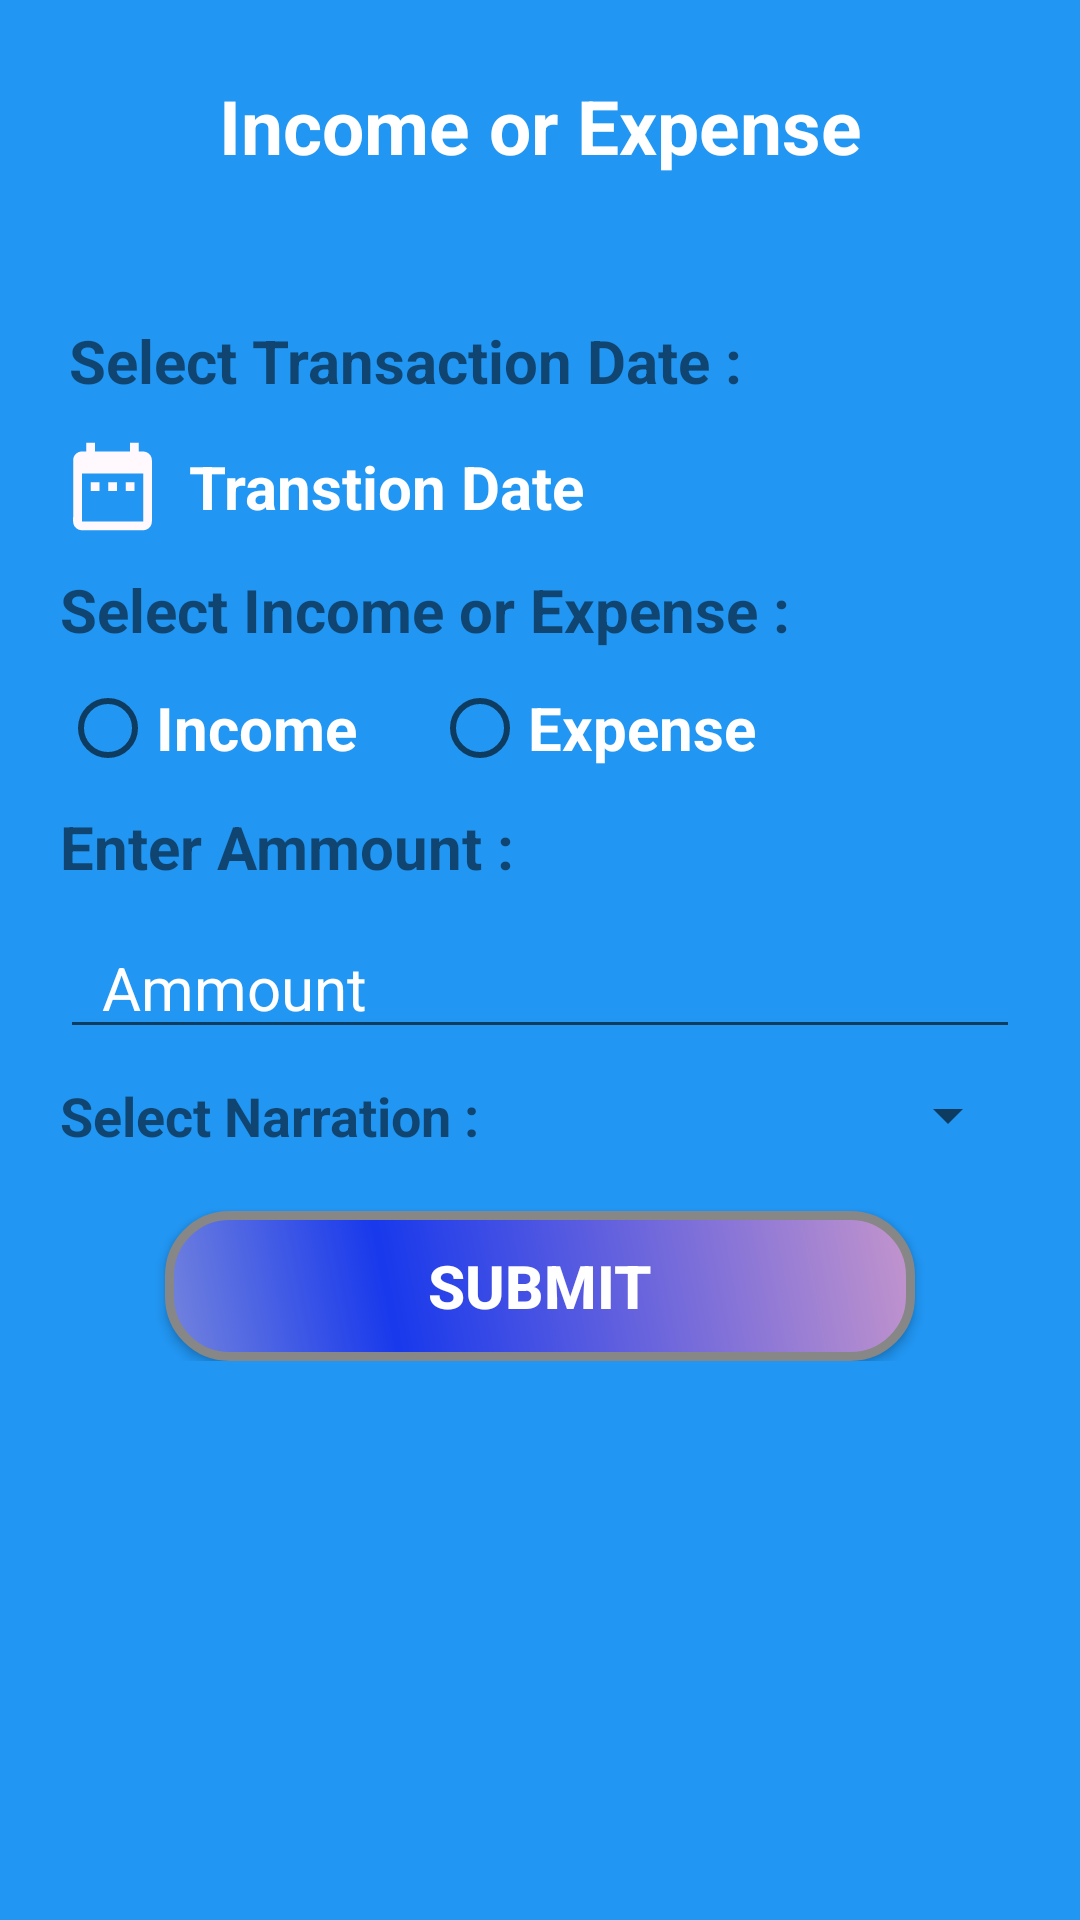

Icons on this 1080px x 1920px Android screen, each with the point to tap as (x=x, y=y):
date range: (x=112, y=486)
